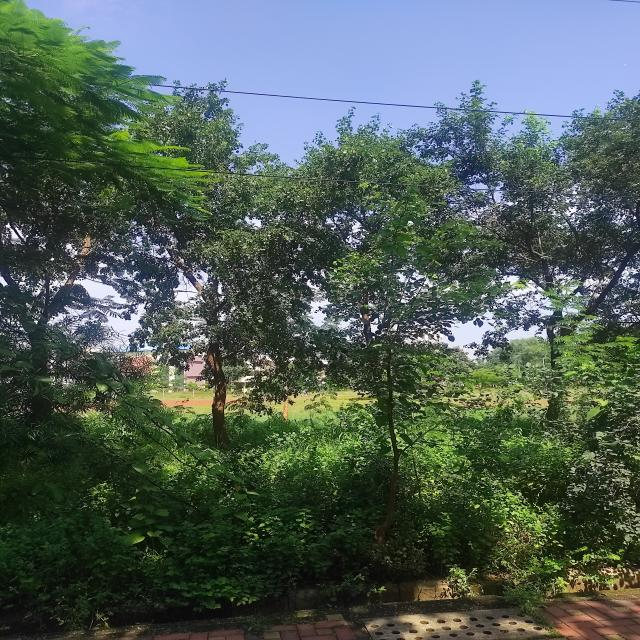Devakanchan tree: (126, 101, 640, 361)
